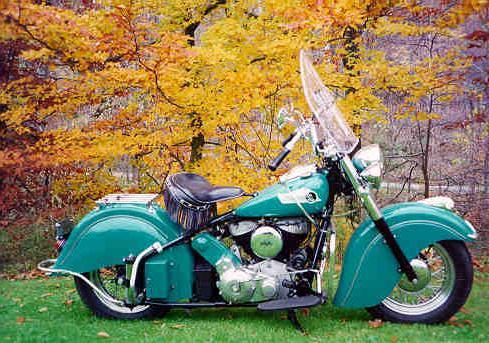motorcycle: (41, 38, 484, 327)
